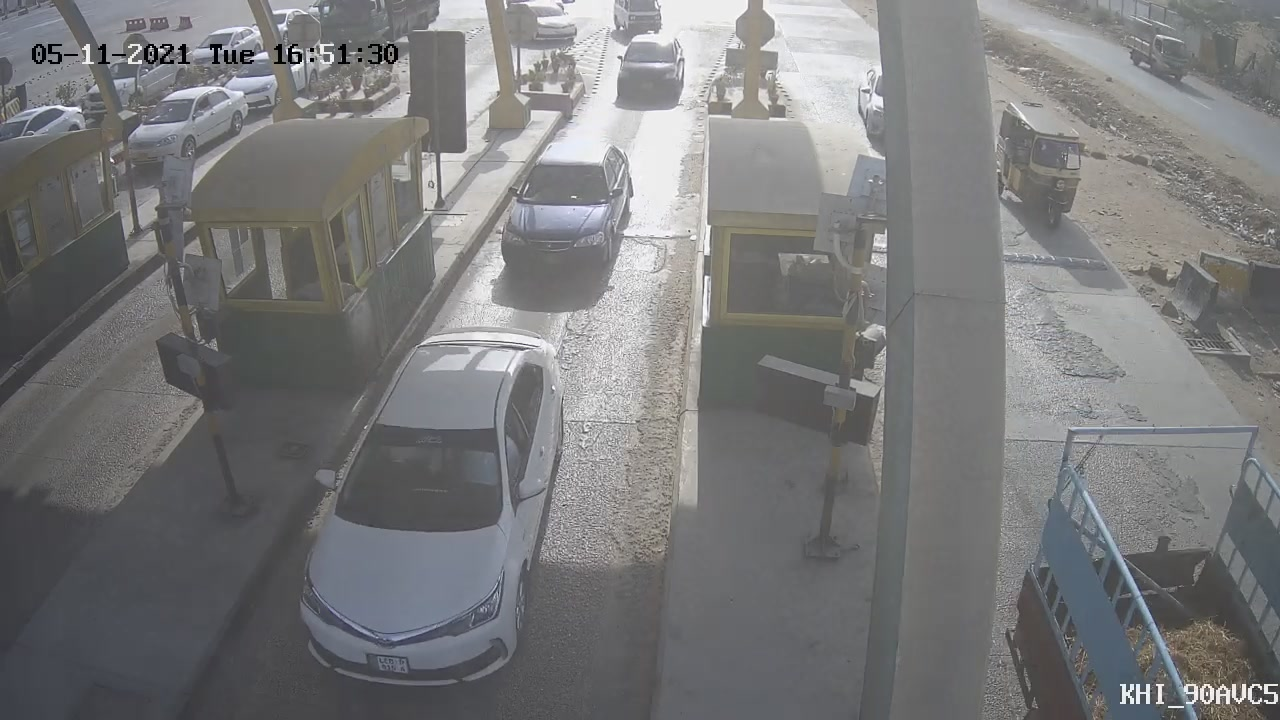F1: (472, 118, 656, 308)
